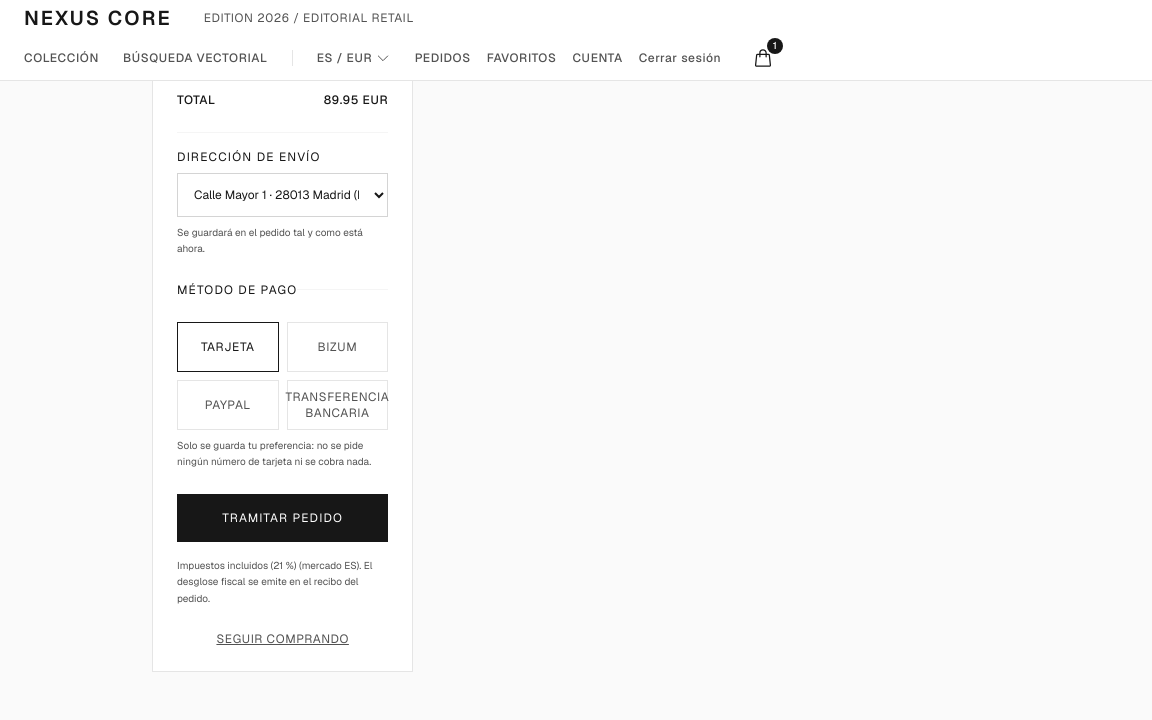
Test: CartPage — guard de sesión y errores amigables (specs/checkout-auth) › T4 — con un 401 del backend no se pinta el error técnico en pantalla
The image size is (1152, 720).
(page scrolled)
Expected: the dropdown labelled "Dirección de envío" shows "Calle Mayor 1 · 28013 Madrid (ES)", [177,173,388,217]
Click the button "Tramitar pedido". click: (283, 518)
box: [177,494,388,542]
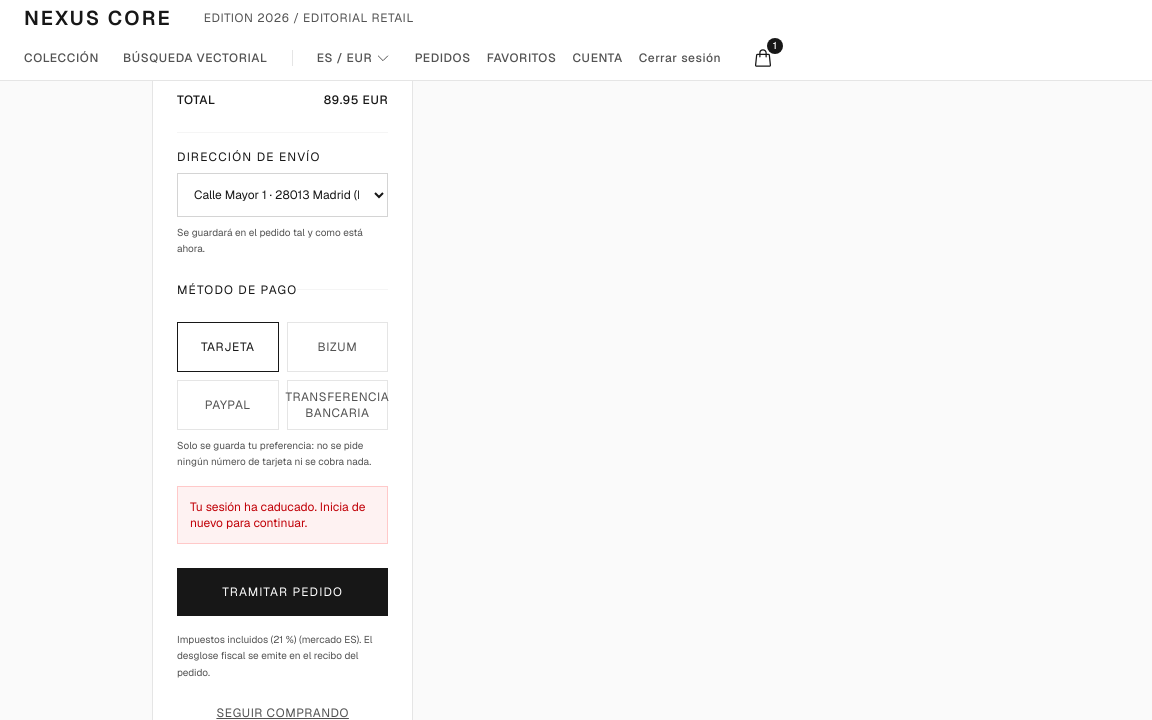
Expected: the text "Tu sesión ha caducado. Inicia de nuevo para continuar." is shown, [177,486,388,544]
